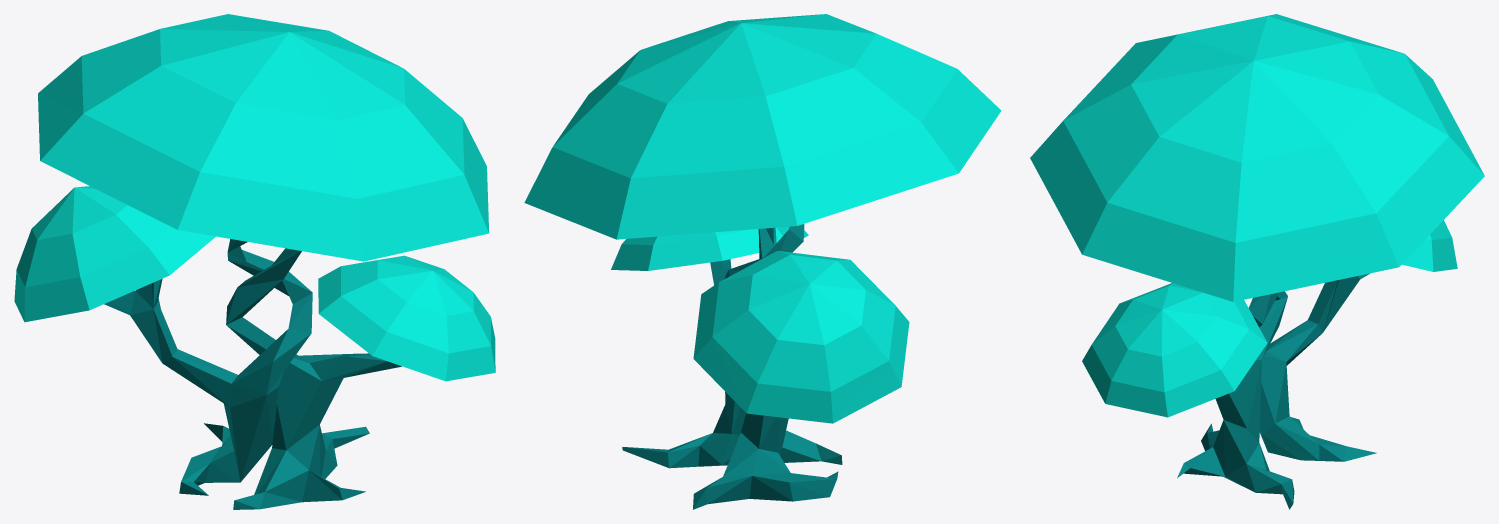
The model's file is Mushrooms_03.glb.
The picture shows the model from 3 angles, left to right: view 1: azimuth 30°, elevation 25°; view 2: azimuth 150°, elevation 25°; view 3: azimuth 270°, elevation 25°; orthographic projection. The views are drawn at different scales.
Parts seen in each view (by area): view 1: Mushrooms_03; view 2: Mushrooms_03; view 3: Mushrooms_03.
Boxes of the visible parts, x1,y1,x2,y2 form: Mushrooms_03: (14, 14, 495, 509); Mushrooms_03: (524, 14, 1001, 509); Mushrooms_03: (1030, 14, 1484, 509).
Bounding box in the file's own units: 0.7707 × 0.7913 × 0.7858.
Materials: 1 (1 with a texture image).
